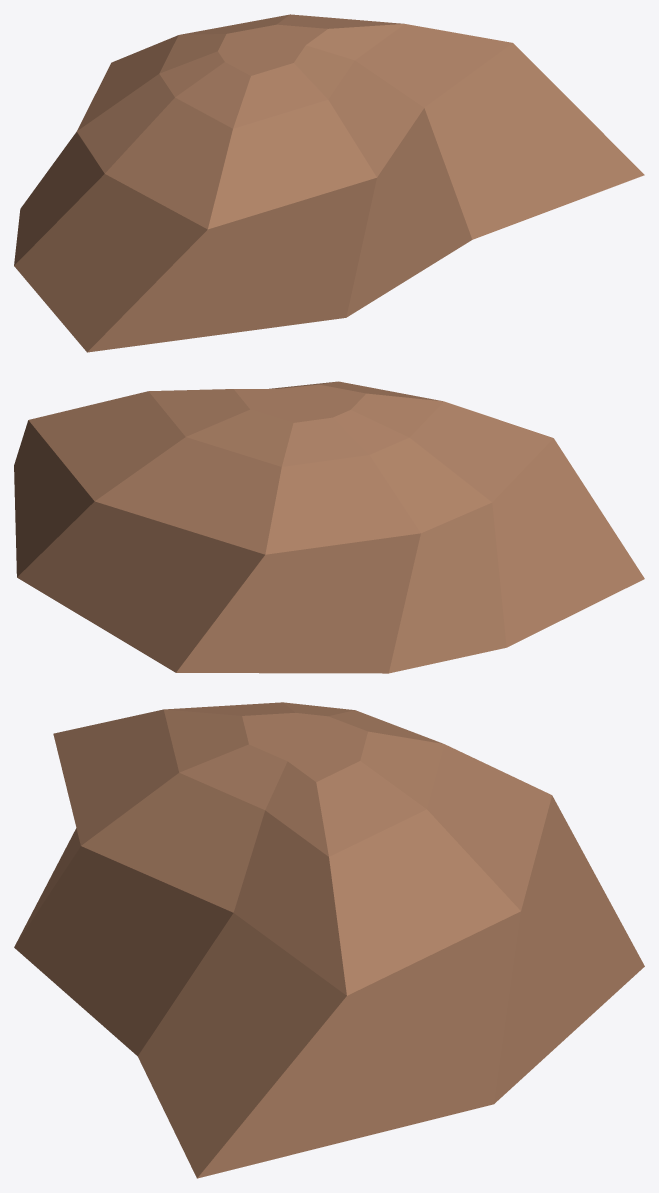
The model's file is rock-019.glb.
3 renders of one model, top to bottom at view 1: azimuth 30°, elevation 25°; view 2: azimuth 150°, elevation 25°; view 3: azimuth 270°, elevation 25°, orthographic. The views are drawn at different scales.
Visible parts, largest first — view 1: stone 19_18; view 2: stone 19_18; view 3: stone 19_18.
Part boxes in pixels (x1,y1,x2,y2): stone 19_18: (14, 14, 644, 352); stone 19_18: (14, 381, 644, 673); stone 19_18: (14, 702, 644, 1178).
Size of the model in its own units: 0.7987 by 0.2264 by 0.5686.
